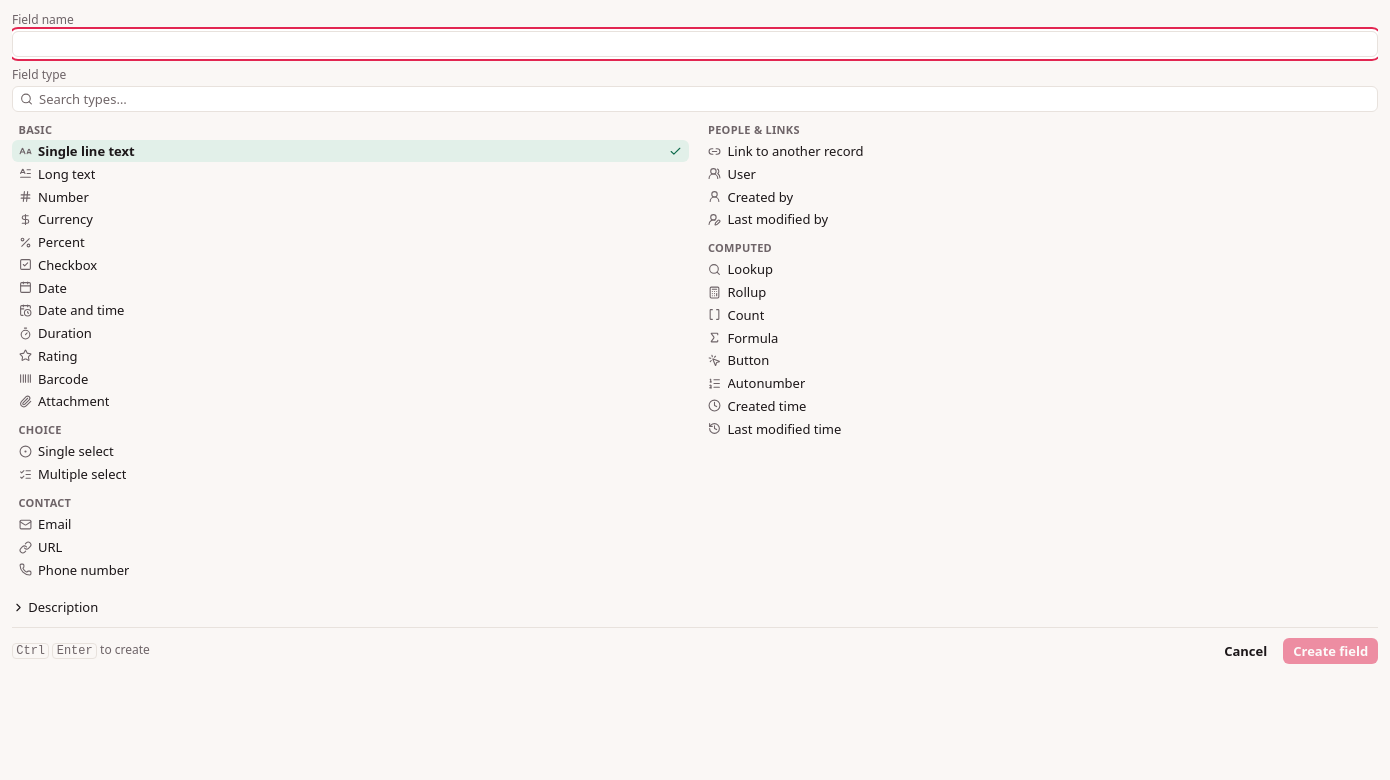
Test case: FieldEditor: lookup, rollup and count (#82) › shows the server's 422 problems inline
Type "Loop" into the field labelled "Field name" at (695, 44), box [12,31,1378,57]
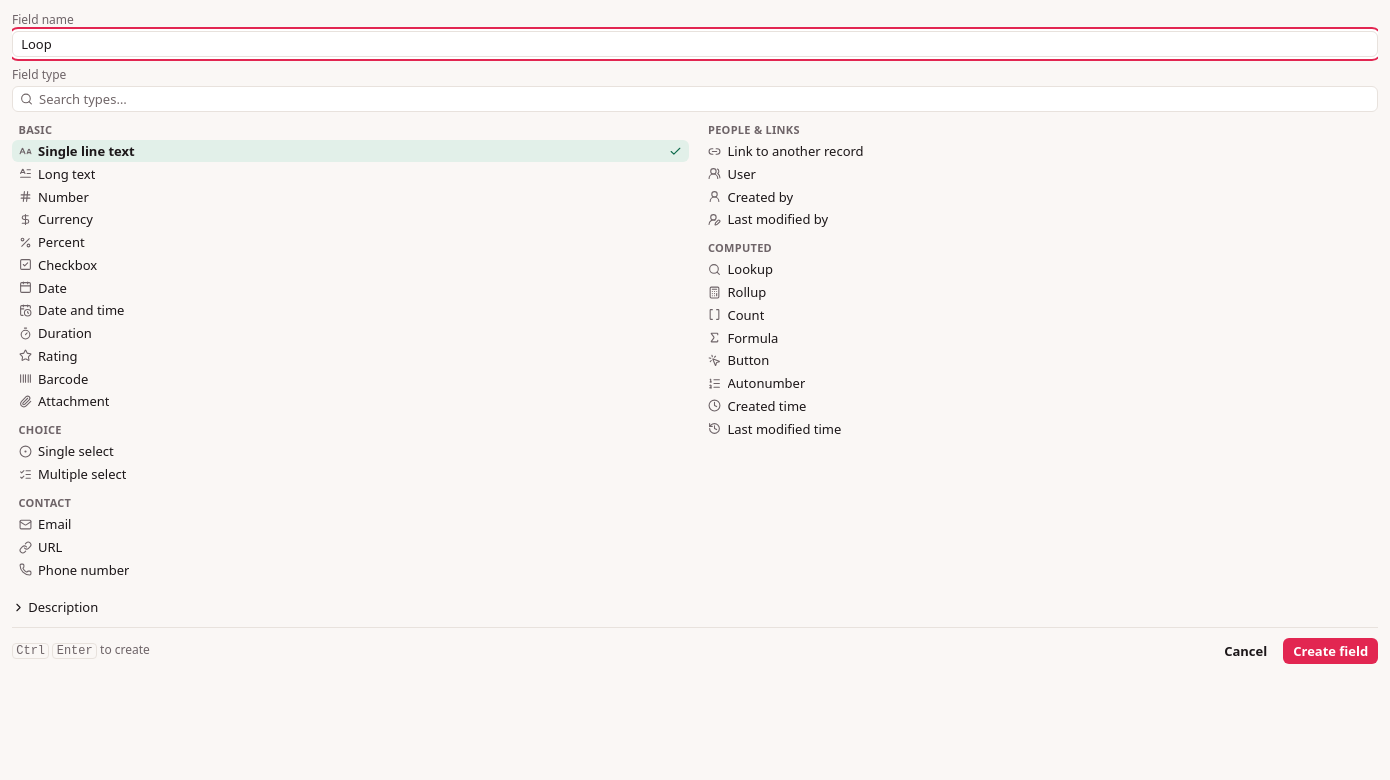
Type "Count" into the dropdown named "Search field types" at (695, 99), box [12,86,1378,112]
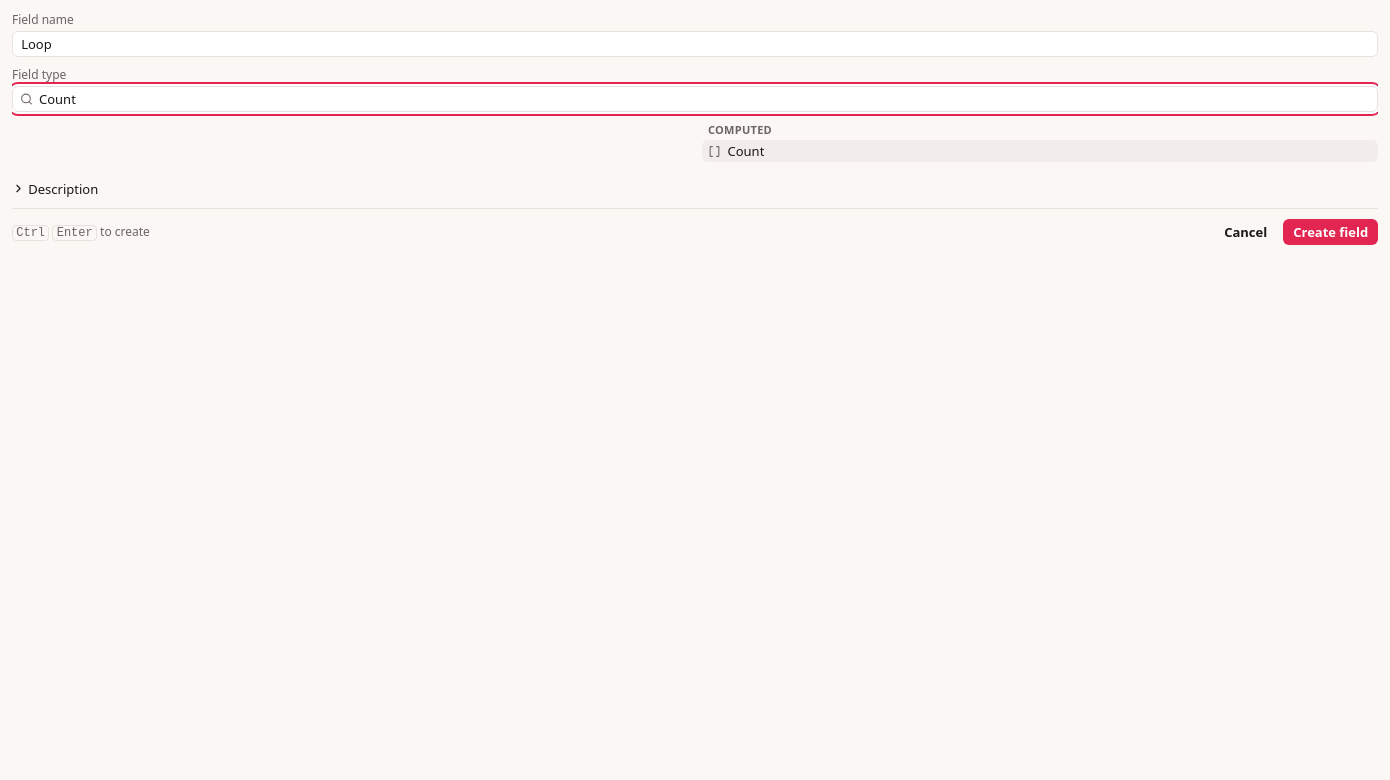
Click the option "Count" at (746, 151), box [702,140,1378,162]
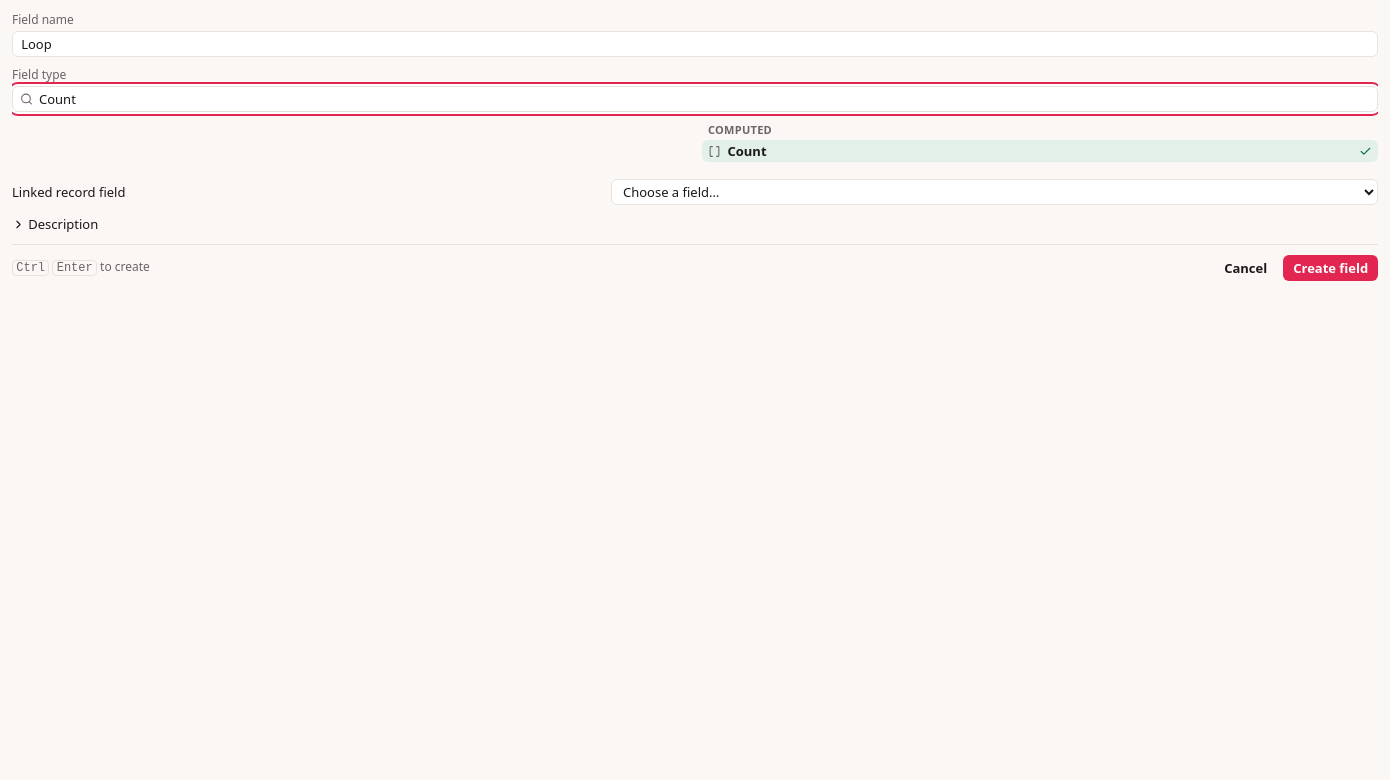
Select "Project" in the dropdown labelled "Linked record field" at (995, 192), box [611,179,1378,205]
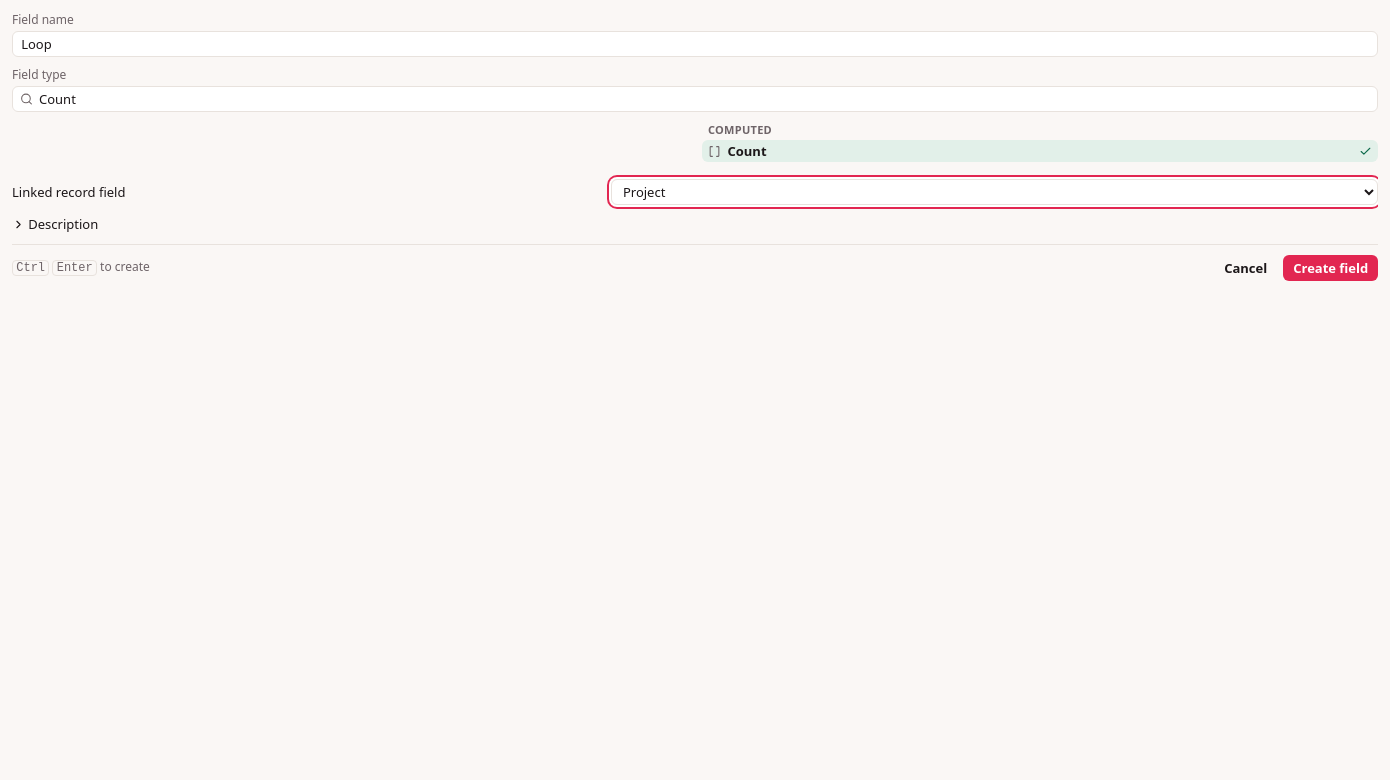
Click the button "Create field" at (1331, 268), box [1284,255,1378,281]
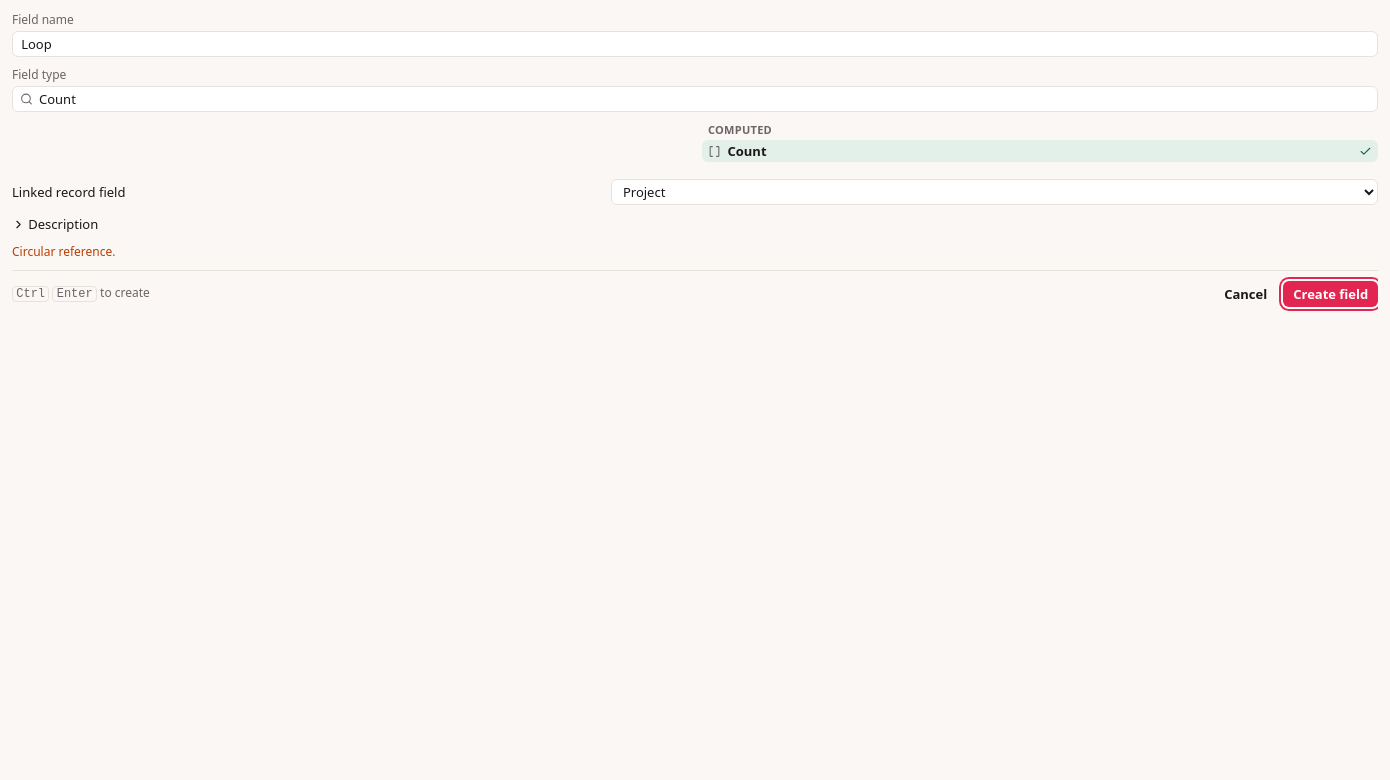
Expected: the message reads "Circular reference.", [12,243,116,260]
